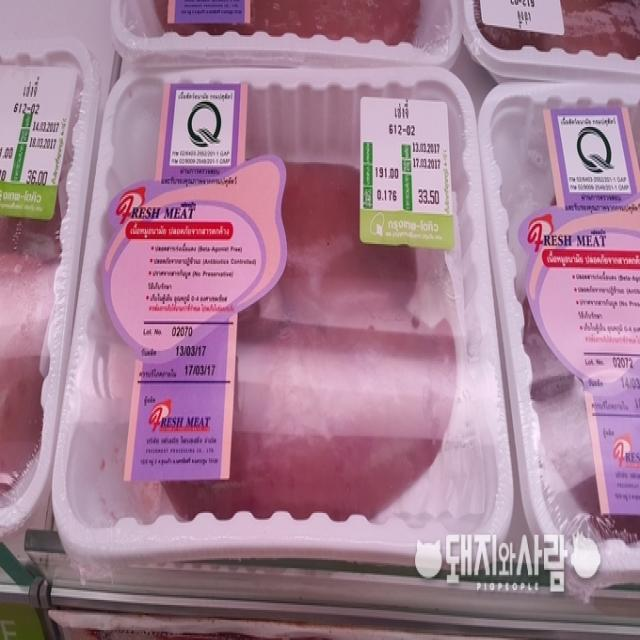pork: (96, 81, 484, 552)
